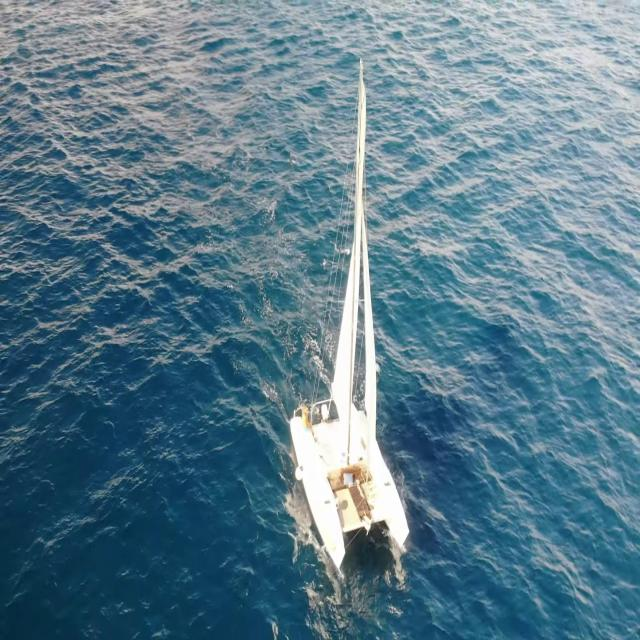sailboat: (289, 58, 412, 570)
